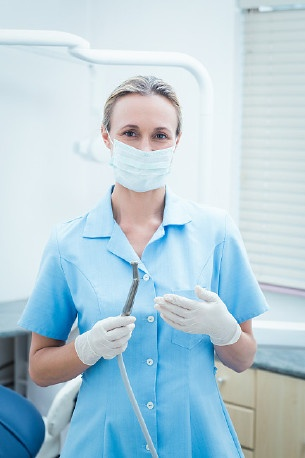Mask: (109, 117, 176, 184)
